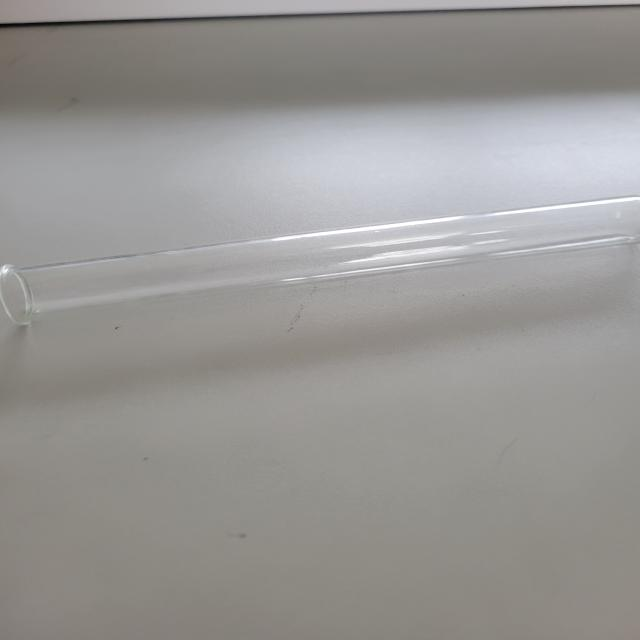Test_Tube: (0, 205, 640, 339)
